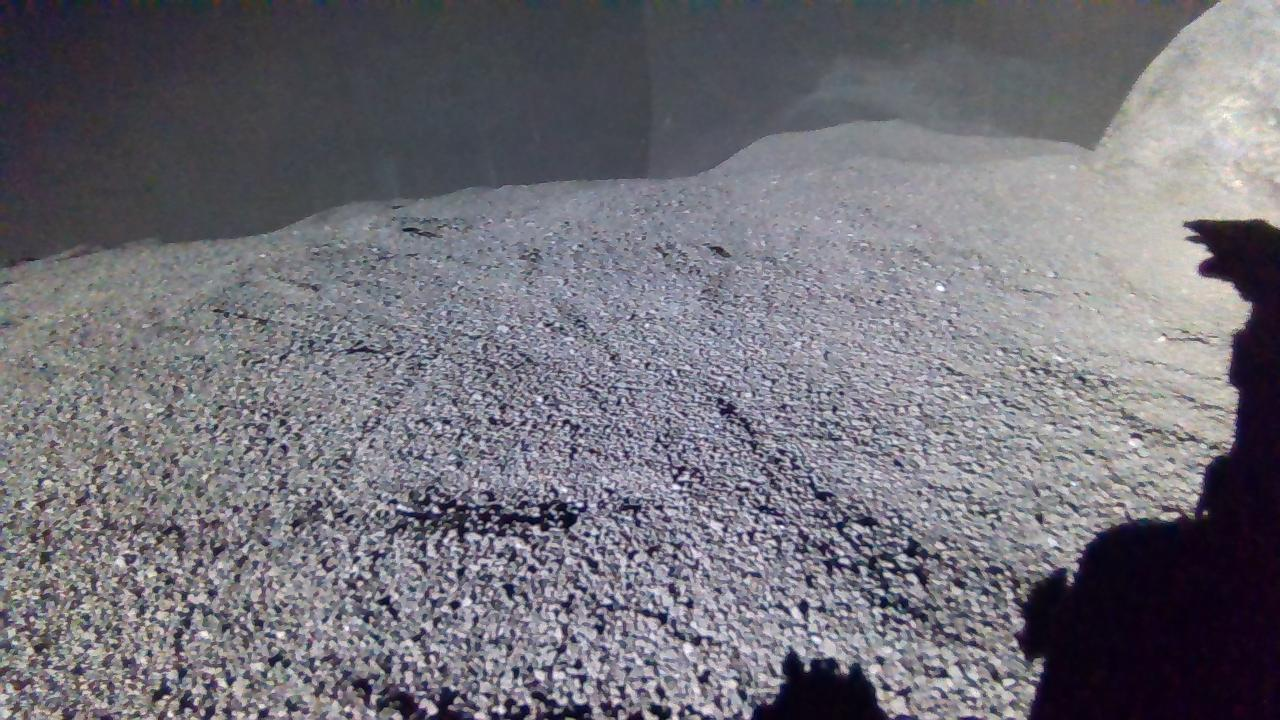rock: (1092, 0, 1280, 215)
